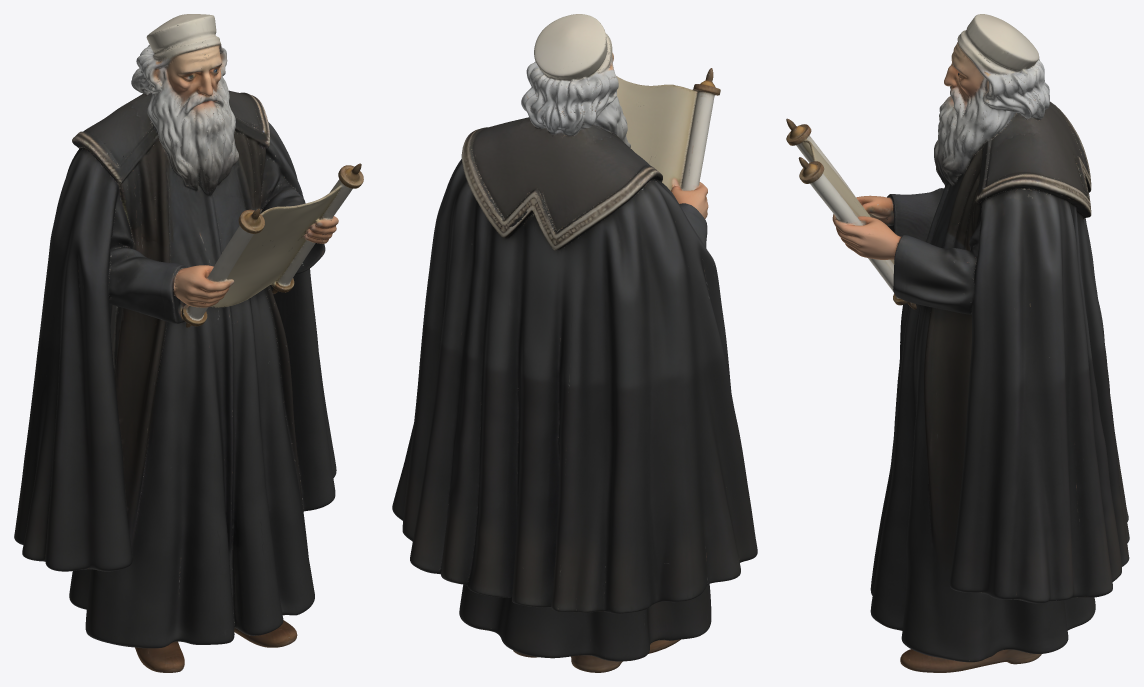
The model's file is Meshy_AI_Ramban_0209035048_texture.glb.
3 views of the same model, side by side, from view 1: azimuth 30°, elevation 25°; view 2: azimuth 150°, elevation 25°; view 3: azimuth 270°, elevation 25° (orthographic).
Bounding box in the file's own units: 1.09 × 2 × 0.9991.
Materials: 1 (1 with a texture image).
